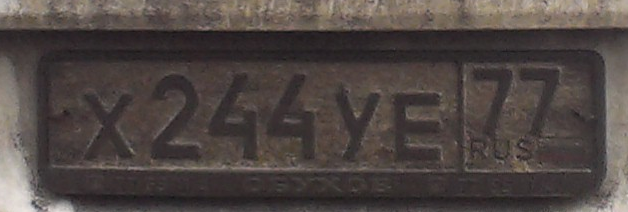character: (206, 69, 264, 163), (265, 69, 323, 161), (148, 72, 205, 163), (77, 85, 140, 163), (392, 87, 448, 166), (335, 83, 381, 164), (517, 65, 563, 141), (471, 64, 512, 138)
